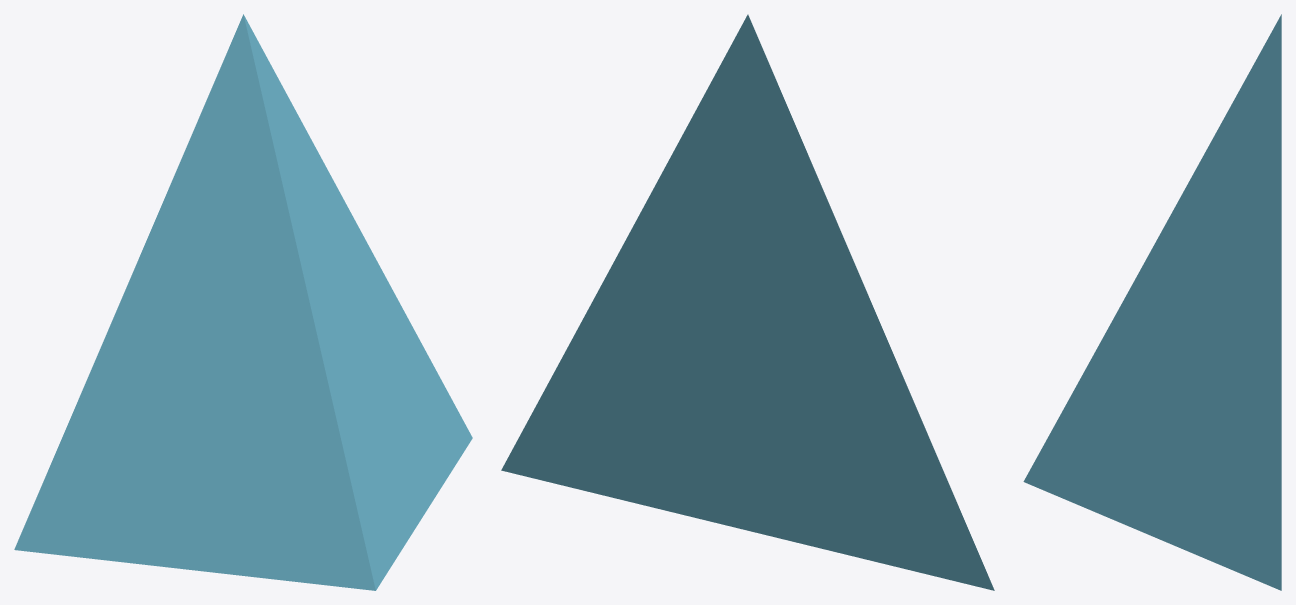
3 renders of one model, left to right at view 1: azimuth 30°, elevation 25°; view 2: azimuth 150°, elevation 25°; view 3: azimuth 270°, elevation 25°, orthographic. The views are drawn at different scales.
Visible parts, largest first — view 1: Flyfish_Tetrahedron; view 2: Flyfish_Tetrahedron; view 3: Flyfish_Tetrahedron.
Part boxes in pixels (x1,y1,x2,y2): Flyfish_Tetrahedron: (14, 14, 472, 590); Flyfish_Tetrahedron: (501, 14, 994, 590); Flyfish_Tetrahedron: (1023, 14, 1281, 590).
Bounding box in the file's own units: 2 × 2 × 1.
